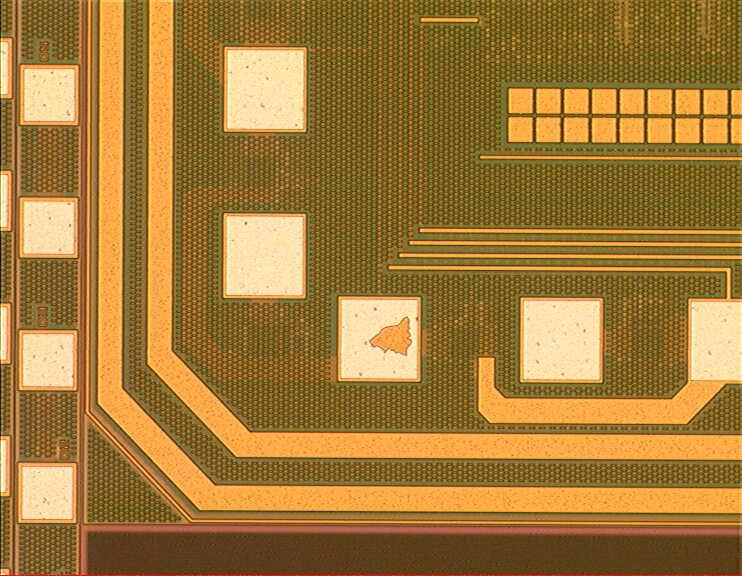BLOCK ETCH: (360, 314, 417, 365)
